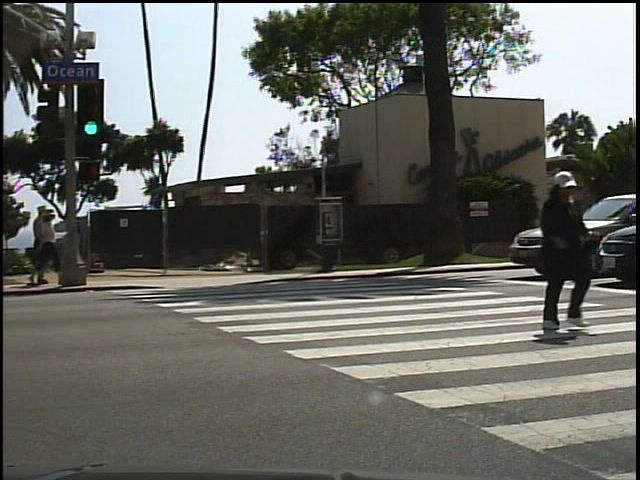person: (519, 164, 597, 338)
